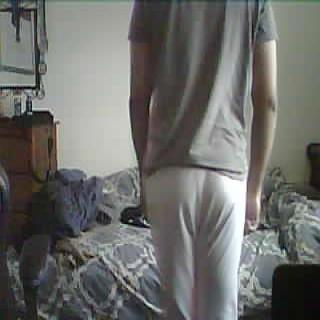White Sweatpants: (137, 157, 254, 320)
